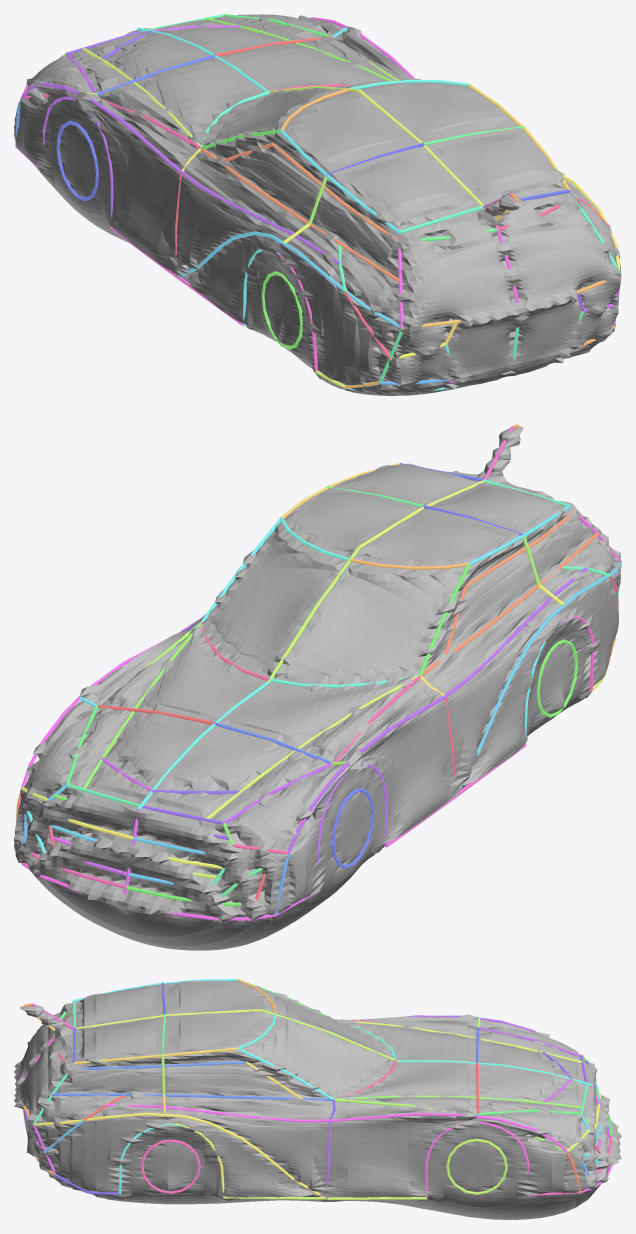
File: ils_car4.gltf
The picture shows the model from 3 angles, top to bottom: view 1: azimuth 30°, elevation 25°; view 2: azimuth 150°, elevation 25°; view 3: azimuth 270°, elevation 25°; orthographic projection. The views are drawn at different scales.
Bounding box in the file's own units: 0.3827 × 0.3362 × 0.9196.
